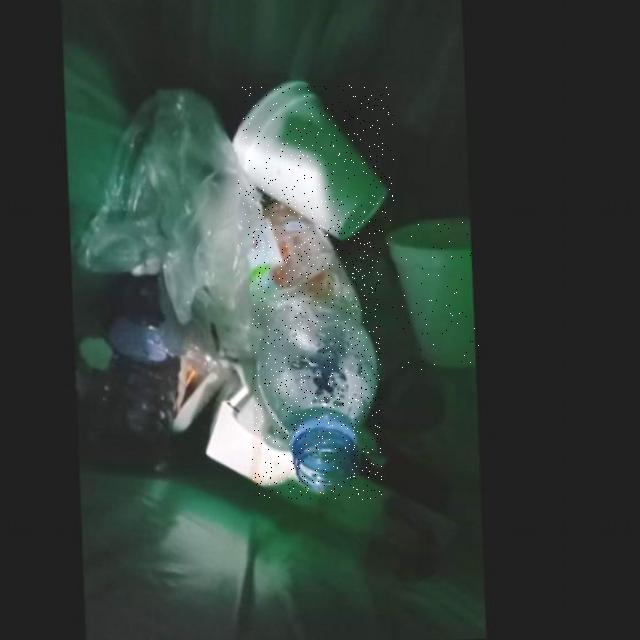glass: (253, 201, 382, 499)
styrofoam: (238, 85, 394, 246), (392, 222, 479, 375)
